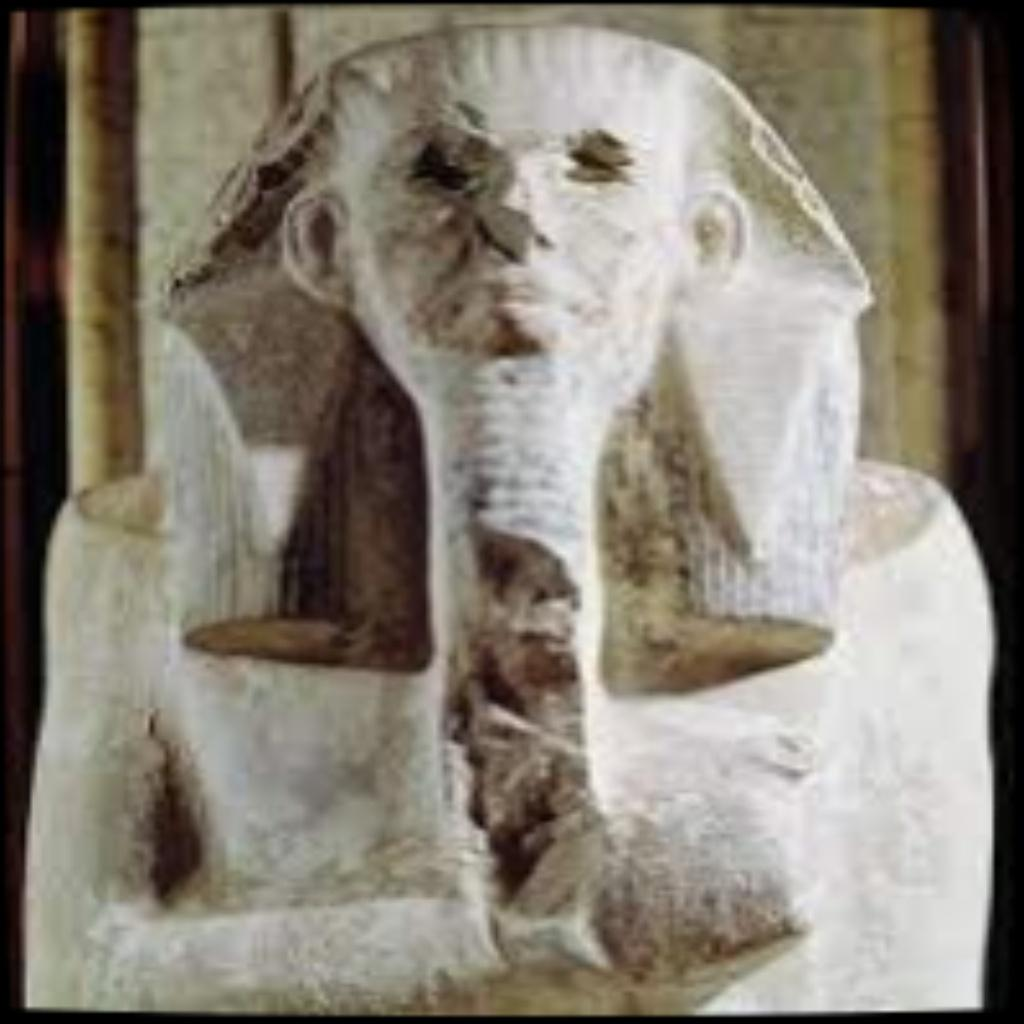Statue of King Zoser: (10, 16, 998, 1012)
